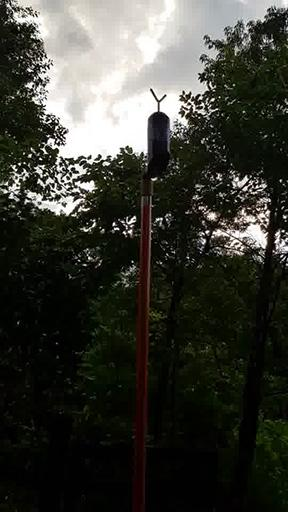Detector_Tensao_Contato: (145, 87, 171, 180)
Vara_Manobra: (135, 180, 155, 512)
